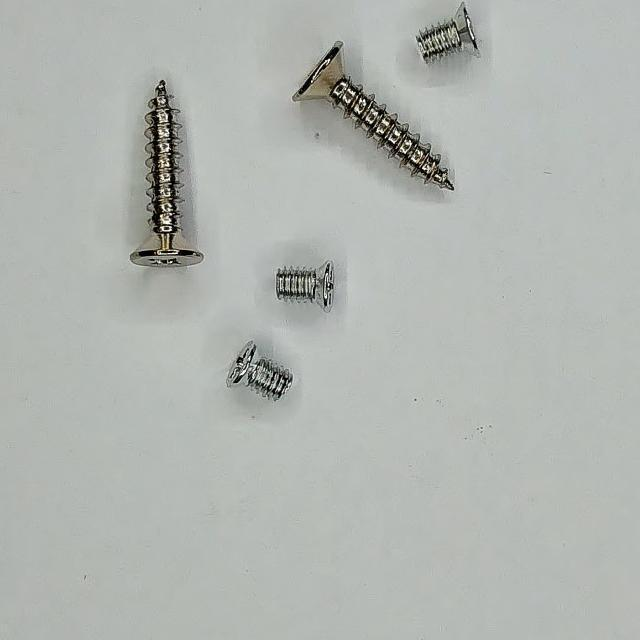Screw: (293, 41, 454, 190), (130, 80, 204, 266), (227, 341, 293, 400), (417, 1, 479, 62), (275, 261, 335, 312)
